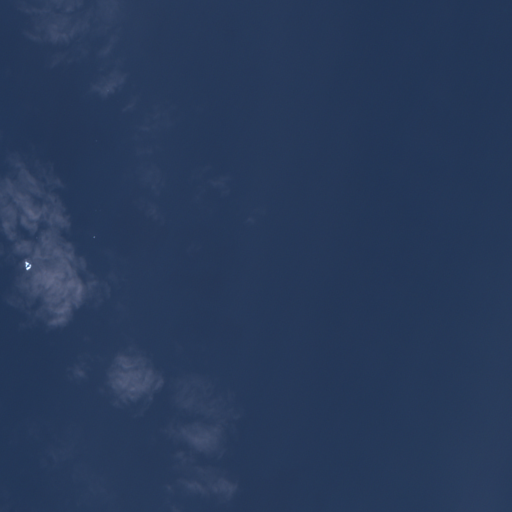Iceberg: (25, 261, 30, 269), (93, 236, 94, 237)
